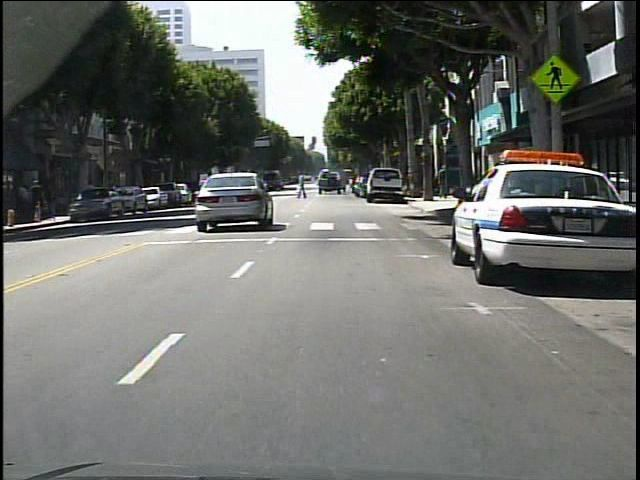person: (32, 180, 47, 223), (437, 163, 453, 203), (18, 183, 31, 222), (296, 169, 311, 202)
